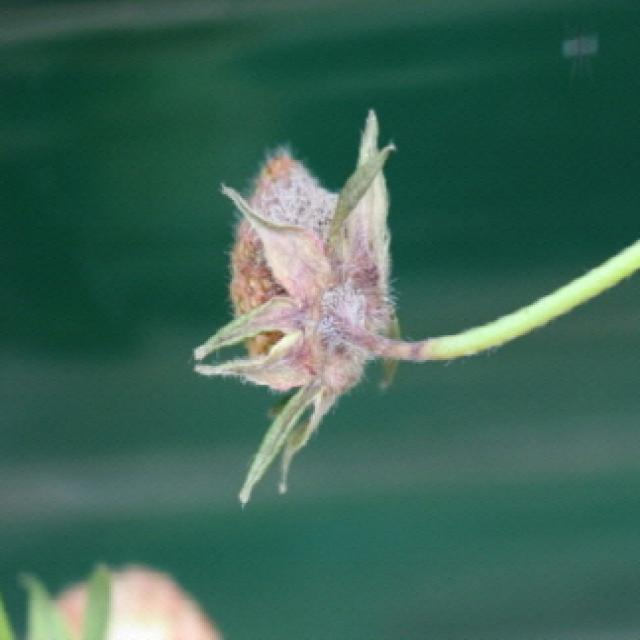Gray Mold: (192, 108, 430, 506)
